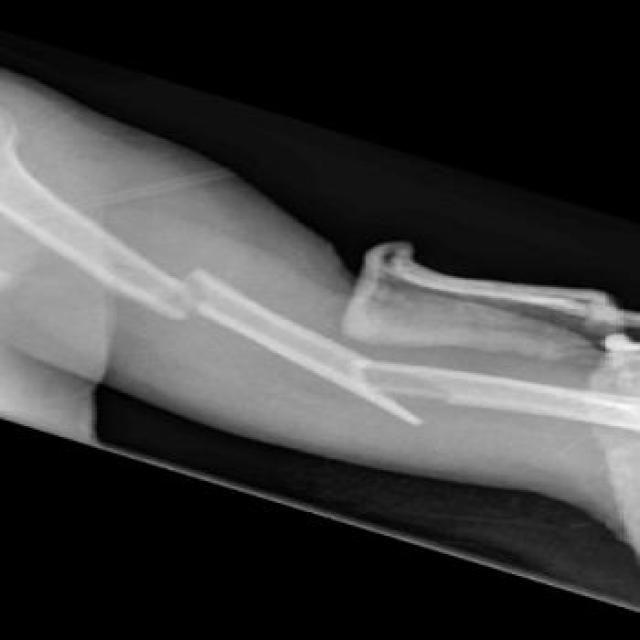Fracture: (342, 350, 481, 446), (134, 267, 254, 332)
